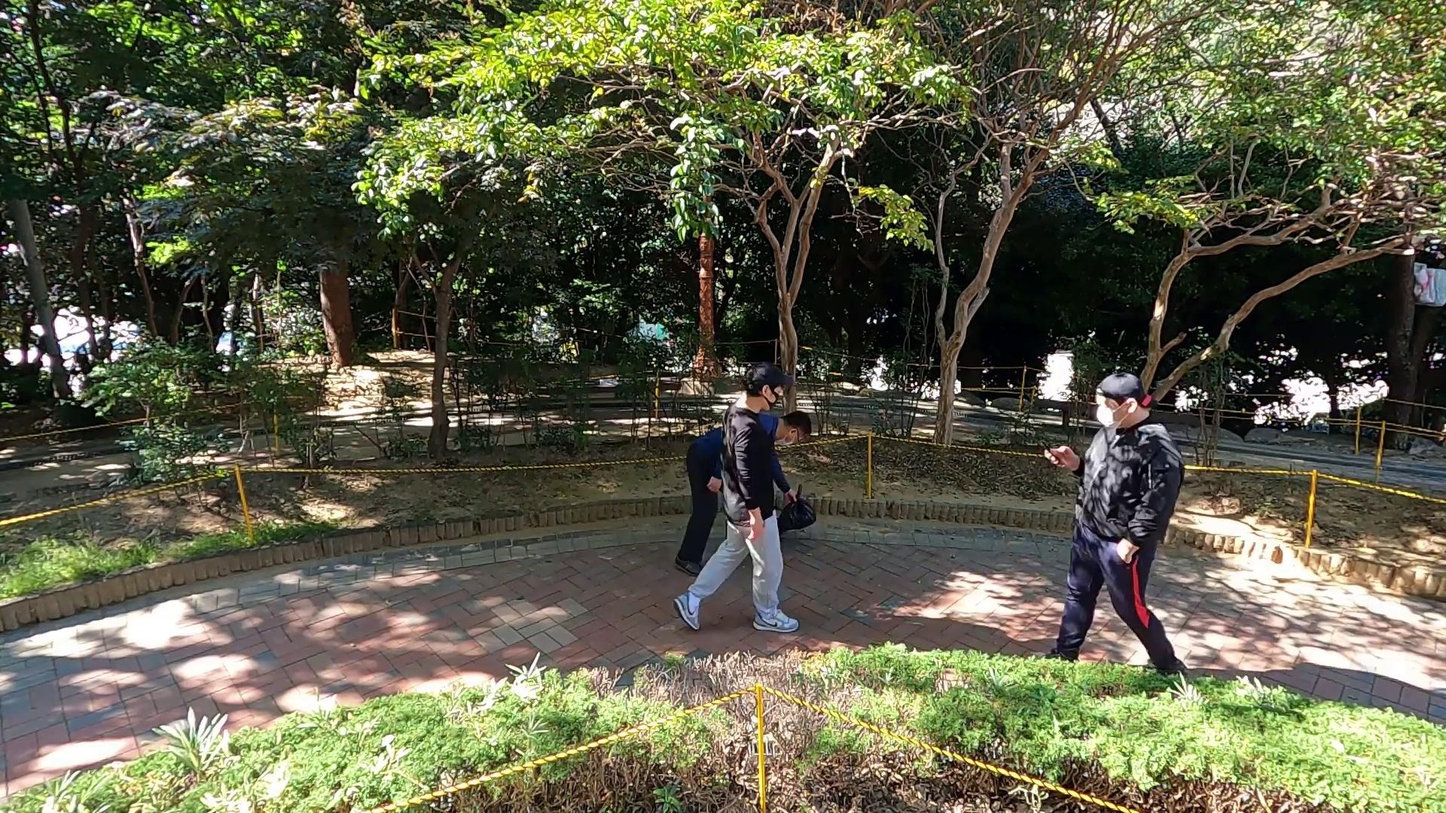person: (1040, 376, 1188, 679), (679, 368, 801, 636), (673, 413, 813, 575)
trash: (767, 488, 821, 539)
